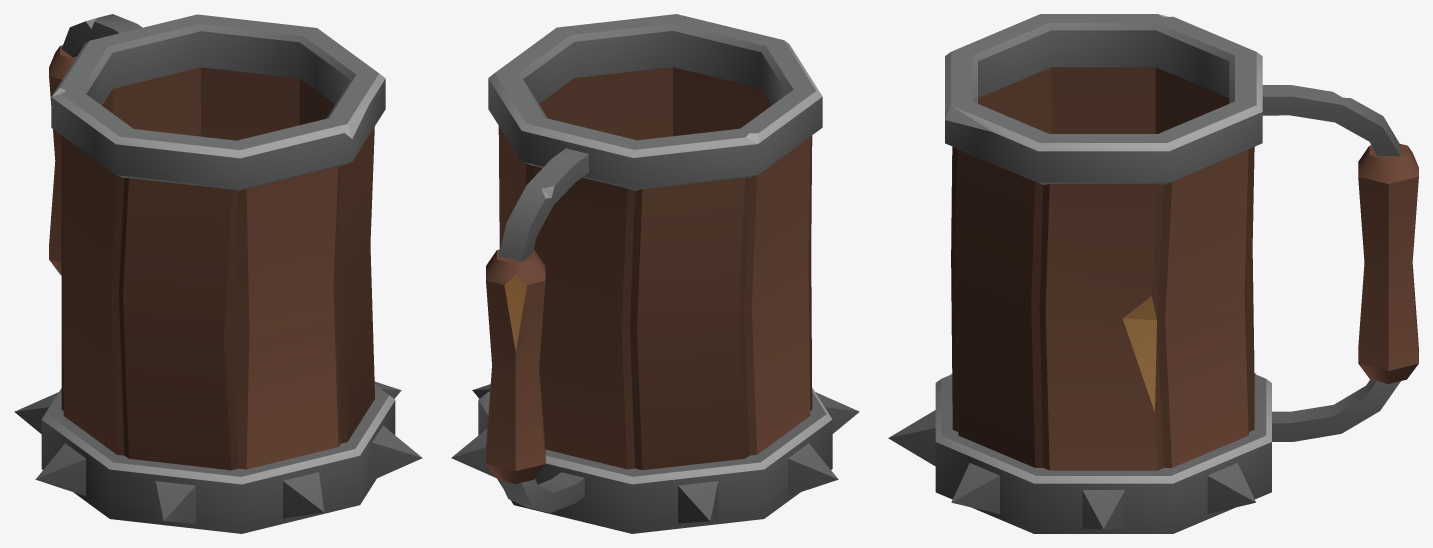
File: Mug_1_C.glb
3 renders of one model, left to right at view 1: azimuth 30°, elevation 25°; view 2: azimuth 150°, elevation 25°; view 3: azimuth 270°, elevation 25°, orthographic.
Parts seen in each view (by area): view 1: Mug_1_C; view 2: Mug_1_C; view 3: Mug_1_C.
Part boxes in pixels (x1,y1,x2,y2): Mug_1_C: (14, 14, 422, 533); Mug_1_C: (451, 14, 859, 533); Mug_1_C: (888, 14, 1418, 533).
Bounding box in the file's own units: 0.2468 × 0.2426 × 0.3038.
2 materials, 2 textured.
